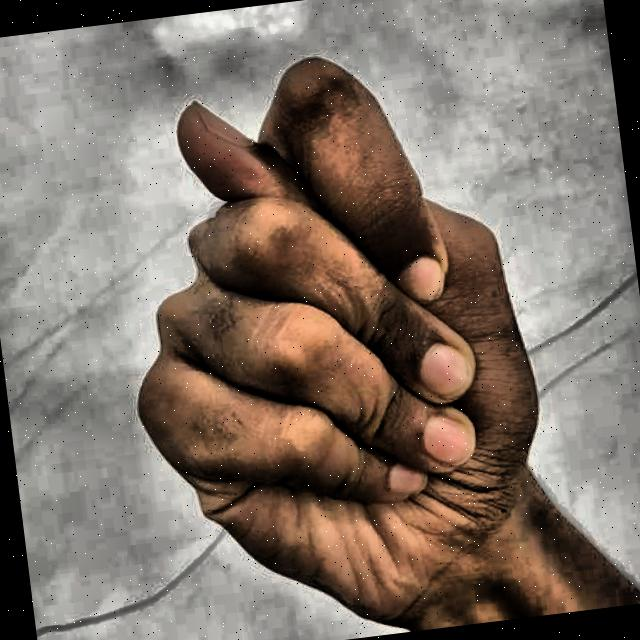Ta: (67, 6, 612, 640)
